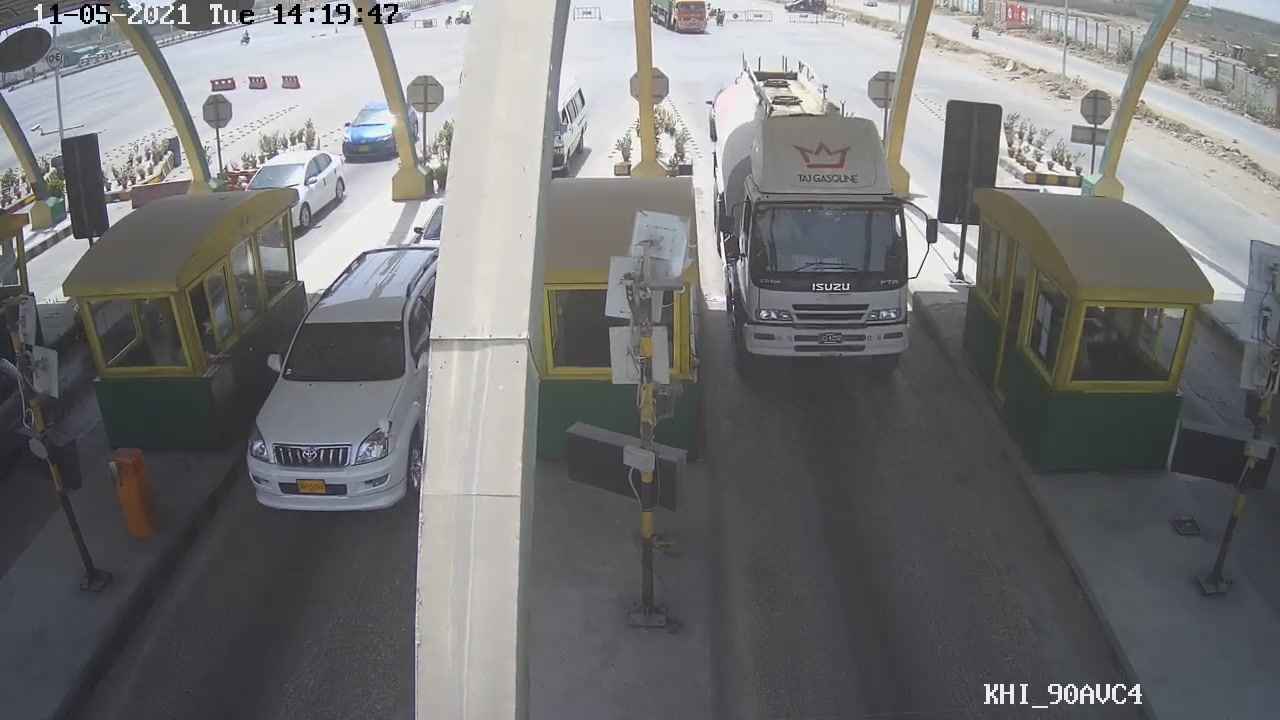F6: (713, 81, 916, 373)
